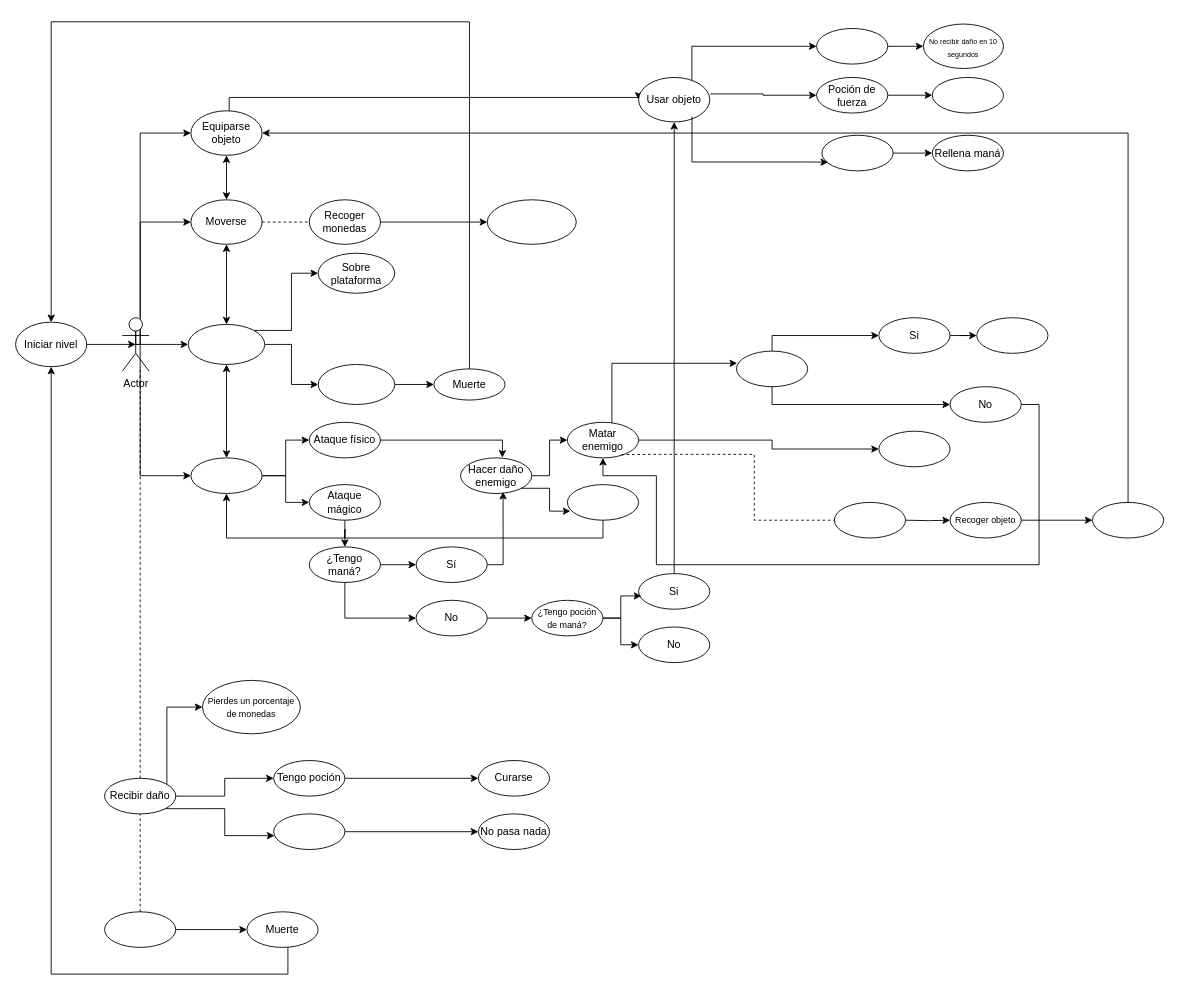
Some shapes in this 1179 by 997 pixel diagram are drawn without their labels. Each missing label, with the centre of its shape:
Acabar nivel: point 1012,335
Atacar: point 226,475
Aumento daño físico: point 967,95
Añadir al inventario: point 1128,520
Añadir EXP: point 914,448
Caer al vacío o sobre trampa: point 356,384
No matar enemigo: point 602,502
No tengo poción: point 309,831
Poción de invencibilidad: point 852,46
Poción de mana: point 857,152
Probabilidad de conseguir objeto: point 869,520
Saltar: point 226,344
Se guardan en el inventario: point 531,221
Vida llega a 0: point 140,929
¿Era el boss final?: point 772,368
